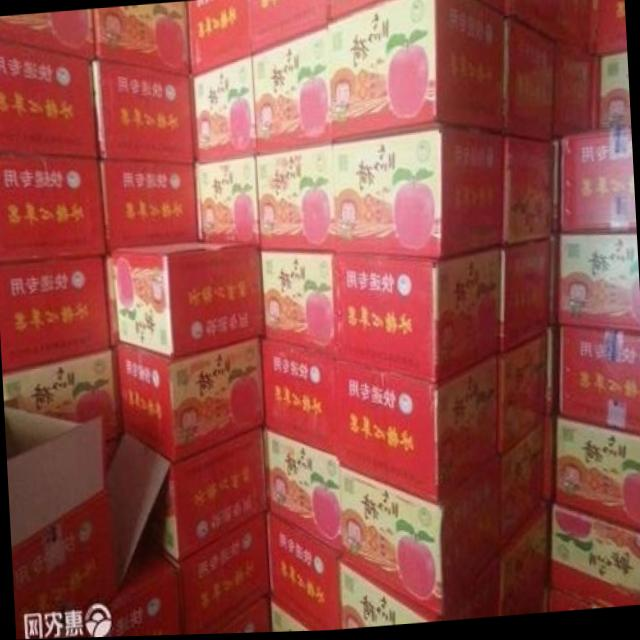box: (325, 0, 505, 148), (338, 457, 498, 617), (5, 407, 114, 634), (337, 357, 496, 504), (333, 127, 503, 260), (334, 250, 500, 385), (118, 342, 264, 463), (115, 241, 264, 359), (19, 535, 180, 640), (143, 429, 266, 564), (0, 252, 118, 375), (0, 154, 106, 266), (543, 416, 640, 535), (0, 43, 99, 158), (339, 560, 500, 630), (177, 514, 269, 636), (5, 344, 120, 441), (89, 59, 195, 162), (263, 429, 342, 556), (548, 332, 640, 441), (253, 28, 332, 154), (263, 335, 339, 462), (548, 506, 640, 610), (548, 236, 640, 338), (98, 159, 197, 253), (254, 145, 335, 254), (265, 514, 340, 630), (561, 131, 637, 239), (262, 251, 334, 357), (188, 59, 257, 164), (92, 6, 188, 77), (502, 21, 555, 149), (190, 156, 259, 248), (496, 336, 547, 457), (499, 425, 544, 561), (502, 139, 555, 248), (499, 506, 550, 619), (498, 243, 550, 353), (504, 0, 596, 57), (184, 0, 253, 74), (554, 45, 601, 149), (0, 11, 94, 57), (250, 0, 325, 55), (600, 58, 631, 137), (211, 599, 273, 635), (324, 0, 396, 24), (463, 0, 504, 19)
